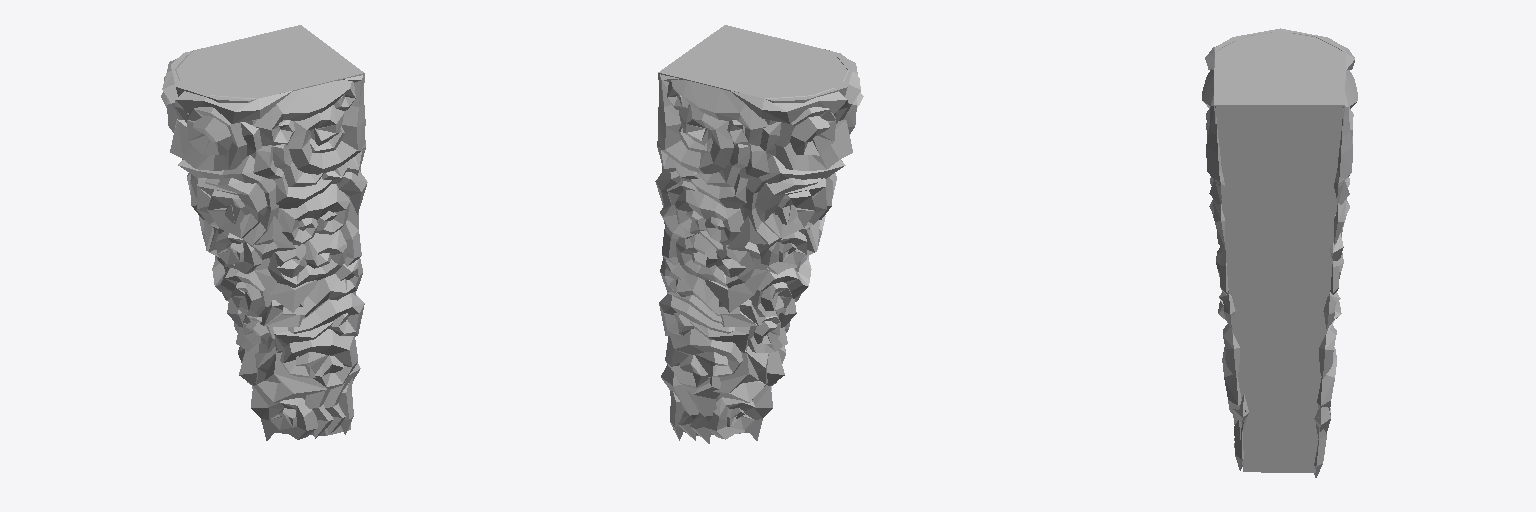
File: Yundan_C.obj
3 views of the same model, side by side, from view 1: azimuth 30°, elevation 25°; view 2: azimuth 150°, elevation 25°; view 3: azimuth 270°, elevation 25° (orthographic).
Parts seen in each view (by area): view 1: Yundan; view 2: Yundan; view 3: Yundan.
Part boxes in pixels (bbox=[...]): Yundan: bbox=[161, 25, 367, 440]; Yundan: bbox=[655, 25, 863, 443]; Yundan: bbox=[1202, 28, 1357, 477].
Bounding box in the file's own units: 0.4834 × 1 × 0.376.